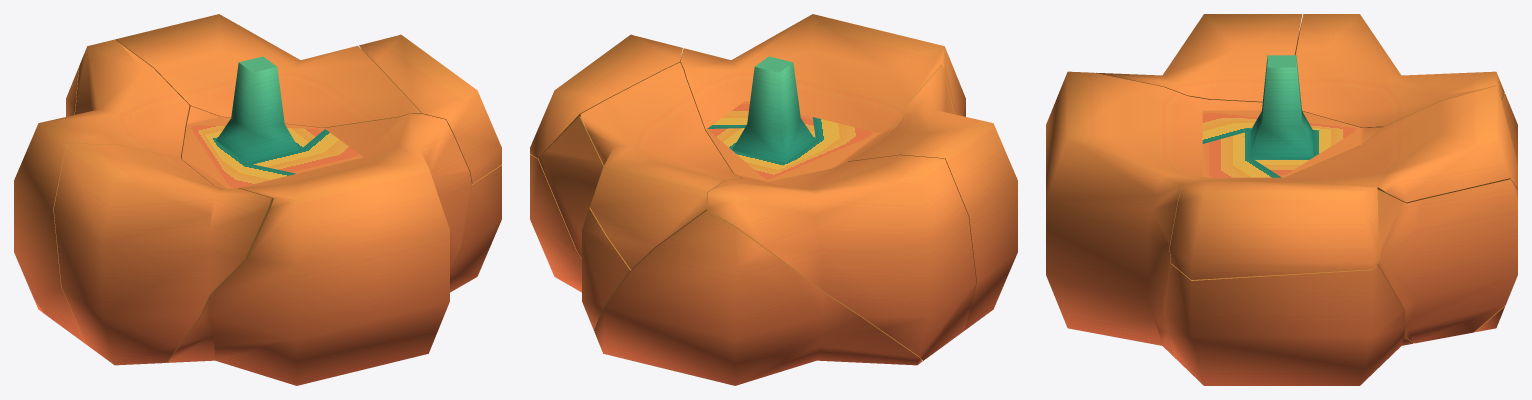
The model's file is pumpkin_pieces.glb.
3 views of the same model, side by side, from view 1: azimuth 30°, elevation 25°; view 2: azimuth 150°, elevation 25°; view 3: azimuth 270°, elevation 25° (orthographic). The views are drawn at different scales.
Visible parts, largest first — view 1: pumpkin_cell.007-convcol, pumpkin_cell.002-convcol, pumpkin_cell.004-convcol, pumpkin_cell.005-convcol, pumpkin_cell.006-convcol, pumpkin_cell.003-convcol; view 2: pumpkin_cell.004-convcol, pumpkin_cell-convcol, pumpkin_cell.007-convcol, pumpkin_cell.005-convcol, pumpkin_cell.002-convcol, pumpkin_cell.001-convcol, pumpkin_cell.006-convcol, pumpkin_cell.003-convcol; view 3: pumpkin_cell.007-convcol, pumpkin_cell.003-convcol, pumpkin_cell.006-convcol, pumpkin_cell.001-convcol, pumpkin_cell.005-convcol, pumpkin_cell.004-convcol, pumpkin_cell.002-convcol, pumpkin_cell-convcol.
Boxes of the visible parts, x1,y1,x2,y2 form: pumpkin_cell.007-convcol: (166, 56, 471, 385); pumpkin_cell.002-convcol: (53, 143, 271, 365); pumpkin_cell.004-convcol: (14, 39, 189, 344); pumpkin_cell.005-convcol: (115, 14, 421, 127); pumpkin_cell.006-convcol: (359, 34, 501, 183); pumpkin_cell.003-convcol: (450, 165, 501, 292); pumpkin_cell.004-convcol: (707, 155, 976, 360); pumpkin_cell-convcol: (594, 210, 922, 385); pumpkin_cell.007-convcol: (680, 14, 965, 181); pumpkin_cell.005-convcol: (580, 62, 741, 269); pumpkin_cell.002-convcol: (848, 66, 1017, 329); pumpkin_cell.001-convcol: (538, 116, 631, 331); pumpkin_cell.006-convcol: (530, 34, 682, 158); pumpkin_cell.003-convcol: (530, 154, 581, 292); pumpkin_cell.007-convcol: (1046, 55, 1382, 355); pumpkin_cell.003-convcol: (1163, 263, 1412, 385); pumpkin_cell.006-convcol: (1169, 181, 1378, 279); pumpkin_cell.001-convcol: (1377, 179, 1517, 343); pumpkin_cell.005-convcol: (1211, 86, 1517, 203); pumpkin_cell.004-convcol: (1294, 14, 1504, 127); pumpkin_cell.002-convcol: (1096, 14, 1302, 102); pumpkin_cell-convcol: (1474, 93, 1517, 332).
Size of the model in its own units: 1.05 by 0.5729 by 1.05.
2 materials, 1 textured.
